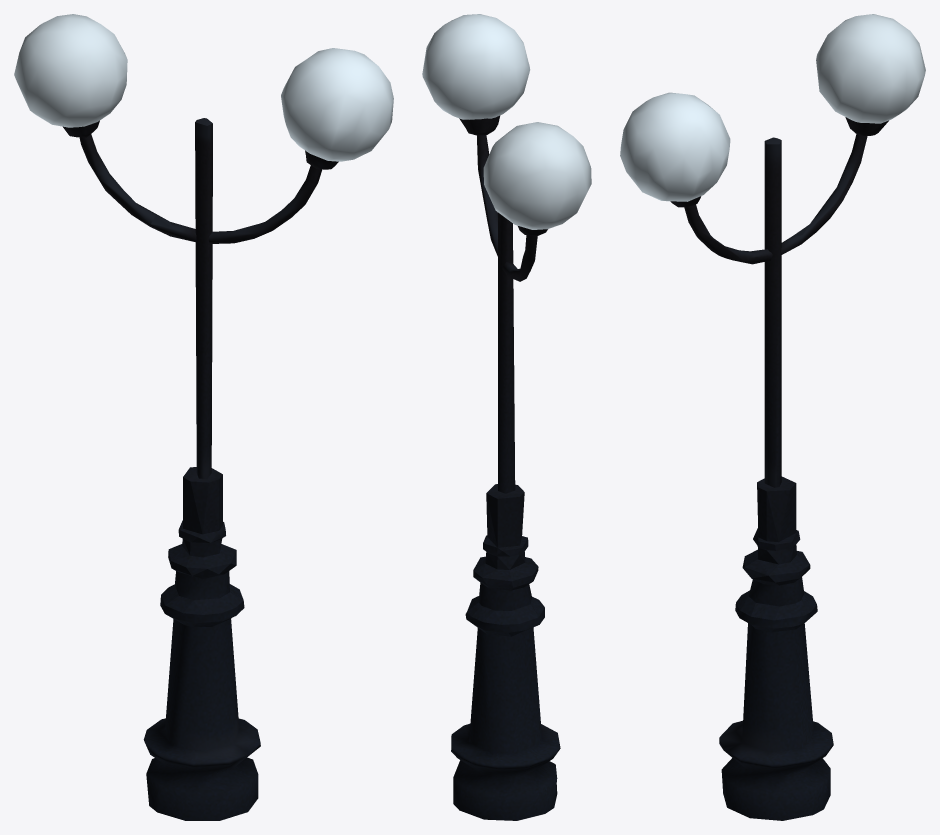
3 renders of one model, left to right at view 1: azimuth 30°, elevation 25°; view 2: azimuth 150°, elevation 25°; view 3: azimuth 270°, elevation 25°, orthographic. The views are drawn at different scales.
Parts seen in each view (by area): view 1: pCylinder87_001; view 2: pCylinder87_001; view 3: pCylinder87_001.
Boxes of the visible parts, x1,y1,x2,y2 form: pCylinder87_001: (14,14,393,820); pCylinder87_001: (422,14,591,820); pCylinder87_001: (620,14,925,820).
Size of the model in its own units: 106 by 295 by 110.
Materials: 1 (1 with a texture image).
